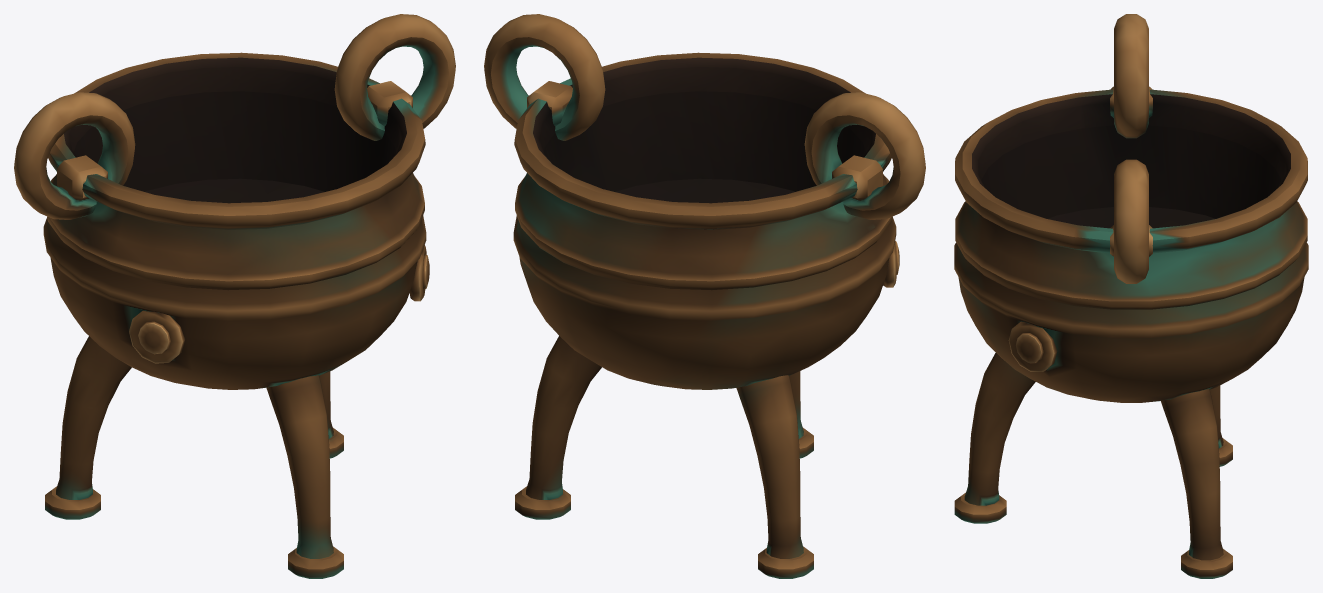
File: bronze_tripod_cauldron.fbx
The picture shows the model from 3 angles, left to right: view 1: azimuth 30°, elevation 25°; view 2: azimuth 150°, elevation 25°; view 3: azimuth 270°, elevation 25°; orthographic projection. The views are drawn at different scales.
Parts seen in each view (by area): view 1: bronze_tripod_cauldron_Body; view 2: bronze_tripod_cauldron_Body; view 3: bronze_tripod_cauldron_Body.
Boxes of the visible parts, x1=… form: bronze_tripod_cauldron_Body: x1=14, y1=14, x2=455, y2=578; bronze_tripod_cauldron_Body: x1=484, y1=14, x2=925, y2=578; bronze_tripod_cauldron_Body: x1=954, y1=14, x2=1308, y2=578.
Size of the model in its own units: 0.3918 by 0.3884 by 0.2961.
1 material, 1 textured.
